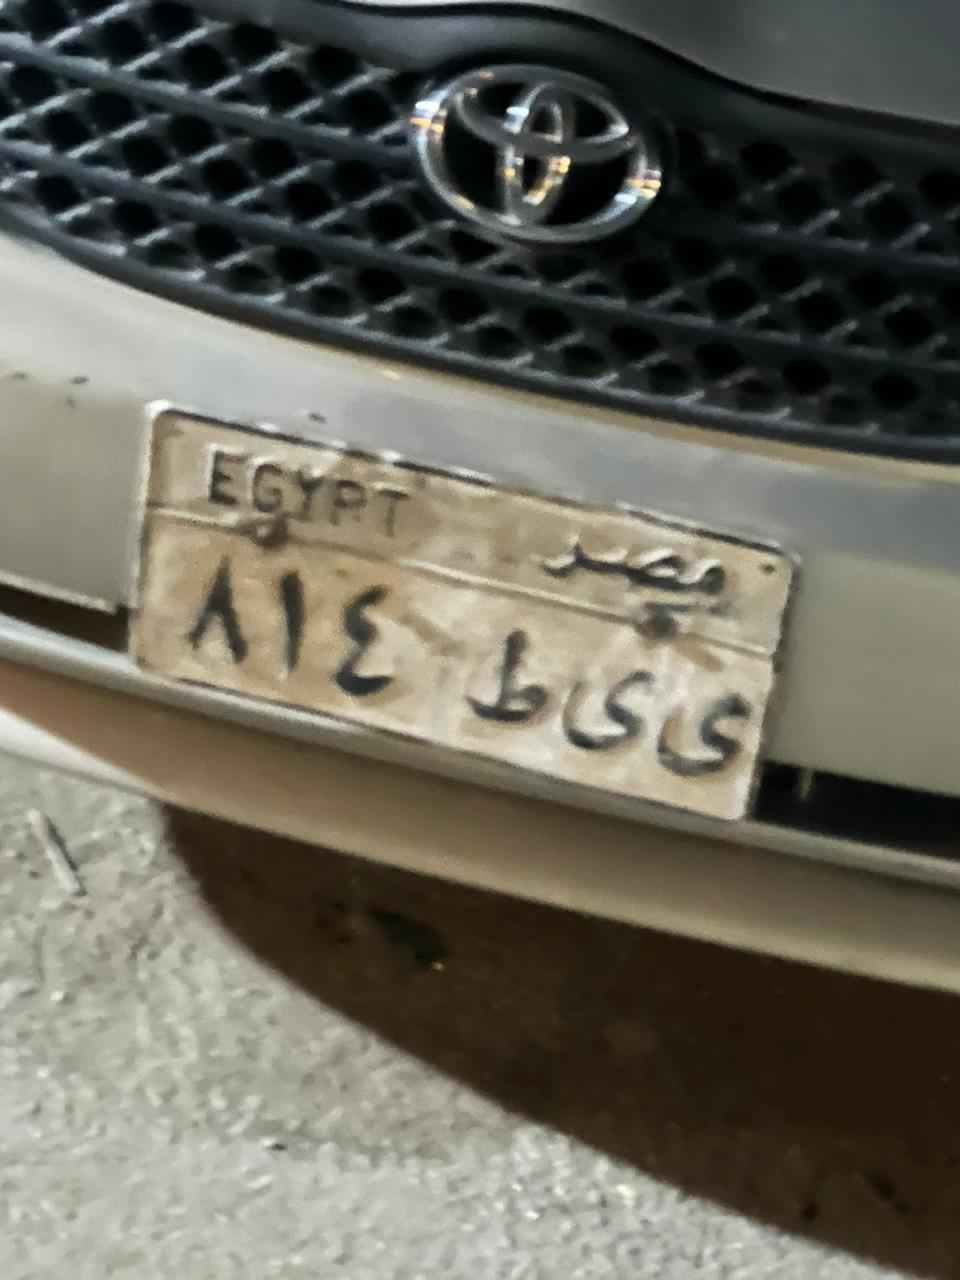1: (269, 556, 312, 678)
4: (332, 574, 406, 704)
8: (188, 543, 265, 664)
License Plate: (129, 372, 796, 846)
Taa: (462, 619, 558, 736)
Yeeh: (650, 671, 775, 790), (554, 646, 663, 763)
